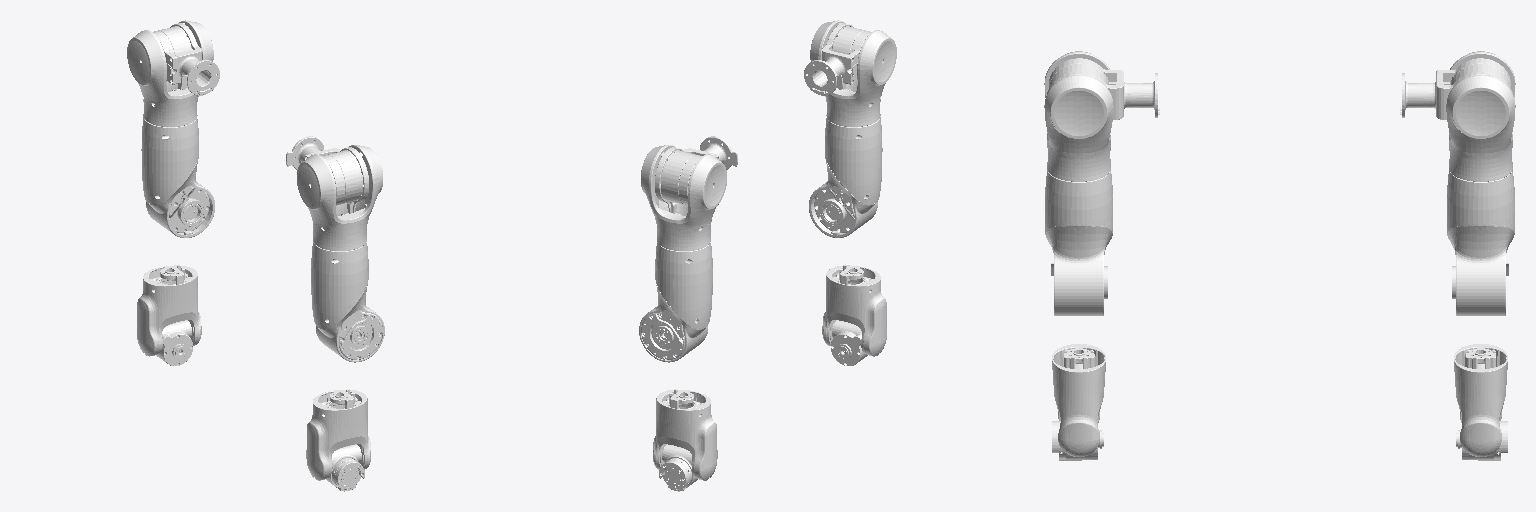
robot.urdf — biped_v3_arm:
<?xml version="1.0" ?>
<!-- =================================================================================== -->
<!-- |    This document was autogenerated by xacro from /home/fandes/workspace/kuavo-ros-control/src/humanoid-control/humanoid_interface_drake/models/biped_gen4.0/urdf/biped_v3_arm.xacro | -->
<!-- |    EDITING THIS FILE BY HAND IS NOT RECOMMENDED                                 | -->
<!-- =================================================================================== -->
<robot name="biped_v3_arm" xmlns:drake="https://drake.mit.edu">
  <link name="torso">
    <inertial>
      <origin xyz="-0.00505 0.0014 0.18077" rpy="0 0 0" />
      <mass value="33.6709" />
      <inertia ixx="0.28214" ixy="3e-05" ixz="0.01114" iyy="0.20534" iyz="0.00044" izz="0.13735" />
    </inertial>
    <visual>
      <origin rpy="0 0 0" xyz="0 0 0"/>
      <geometry>
        <mesh filename="../../meshes/base_link.STL"/>
      </geometry>
      <material name="">
        <color rgba="0.43137 0.45098 0.43137 1"/>
      </material>
    </visual>
    <!-- <collision>
      <origin xyz="0 0 0" rpy="0 0 0" />
      <geometry>
        <mesh filename="../../meshes/base_link.STL" />
      </geometry>
    </collision> -->
  </link>
  <!-- =========================================================== Arms ================================================================= -->
  
  <link name="zarm_l1_link">
    <inertial>
      <origin xyz="-0.00083 -0.02218 0.00035" rpy="0 0 0" />
      <mass value="0.962" />
      <inertia ixx="0.00225" ixy="-3e-05" ixz="0.0" iyy="0.00099" iyz="-2e-05" izz="0.00227" />
    </inertial>
    <visual>
      <origin xyz="0 0 0" rpy="0 0 0" />
      <geometry>
        <mesh filename="package://biped_s43/meshes/l_arm_pitch.STL" />
      </geometry>
      <material name="">
        <color rgba="1 1 1 1" />
      </material>
    </visual>
  </link>
  <joint name="zarm_l1_joint" type="revolute">
    <origin xyz="-0.0175 0.28469999999999995 0.3245" rpy="0 0 0" />
    <parent link="torso" />
    <child link="zarm_l1_link" />
    <axis xyz="0 1 0" />
    <limit lower="-3.14159265358979" upper="1.5707963267949" effort="100.0" velocity="41.3433333333333" />
  </joint>
  <transmission type="SimpleTransmission">
    <joint name="zarm_l1_joint" />
    <actuator name="zarm_l1_joint_motor" />
  </transmission>
  <link name="zarm_l2_link">
    <inertial>
      <origin xyz="-0.00791 0.0 -0.04655" rpy="0 0 0" />
      <mass value="0.57" />
      <inertia ixx="0.00163" ixy="0.0" ixz="5e-05" iyy="0.00211" iyz="0.0" izz="0.00122" />
    </inertial>
    <visual>
      <origin xyz="0 0 0" rpy="0 0 0" />
      <geometry>
        <mesh filename="package://biped_s43/meshes/l_arm_roll.STL" />
      </geometry>
      <material name="">
        <color rgba="1 1 1 1" />
      </material>
    </visual>
  </link>
  <joint name="zarm_l2_joint" type="revolute">
    <origin xyz="0 0 0" rpy="0 0 0" />
    <parent link="zarm_l1_link" />
    <child link="zarm_l2_link" />
    <axis xyz="1 0 0" />
    <limit lower="-0.349065850398866" upper="2.0943951023932" effort="50.0" velocity="19.154" />
  </joint>
  <transmission type="SimpleTransmission">
    <joint name="zarm_l2_joint" />
    <actuator name="zarm_l2_joint_motor" />
  </transmission>
  <link name="zarm_l3_link">
    <inertial>
      <origin xyz="0.00628 0.00107 -0.20878" rpy="0 0 0" />
      <mass value="1.65" />
      <inertia ixx="0.00815" ixy="-4e-05" ixz="0.00085" iyy="0.00828" iyz="0.00014" izz="0.00206" />
    </inertial>
    <visual>
      <origin xyz="0 0 0" rpy="0 0 0" />
      <geometry>
        <mesh filename="package://biped_s43/meshes/l_arm_yaw.STL" />
      </geometry>
      <material name="">
        <color rgba="1 1 1 1" />
      </material>
    </visual>
  </link>
  <joint name="zarm_l3_joint" type="revolute">
    <origin xyz="0 0 0" rpy="0 0 0" />
    <parent link="zarm_l2_link" />
    <child link="zarm_l3_link" />
    <axis xyz="0 0 1" />
    <limit lower="-1.5707963267949" upper="1.5707963267949" effort="39.0" velocity="18.84" />
  </joint>
  <transmission type="SimpleTransmission">
    <joint name="zarm_l3_joint" />
    <actuator name="zarm_l3_joint_motor" />
  </transmission>
  <link name="zarm_l4_link">
    <inertial>
      <origin xyz="-0.01611 0.00143 -0.04857" rpy="0 0 0" />
      <mass value="0.429" />
      <inertia ixx="0.00135" ixy="0.0" ixz="-0.0001" iyy="0.00114" iyz="0.0" izz="0.00083" />
    </inertial>
    <visual>
      <origin xyz="0 0 0" rpy="0 0 0" />
      <geometry>
        <mesh filename="package://biped_s43/meshes/l_forearm.STL" />
      </geometry>
      <material name="">
        <color rgba="1 1 1 1" />
      </material>
    </visual>
  </link>
  <joint name="zarm_l4_joint" type="revolute">
    <origin xyz="0.0200000000000006 0 -0.283699999999996" rpy="0 0 0" />
    <parent link="zarm_l3_link" />
    <child link="zarm_l4_link" />
    <axis xyz="0 1 0" />
    <limit lower="-2.61799387799149" upper="0.0" effort="50.0" velocity="18.84" />
  </joint>
  <transmission type="SimpleTransmission">
    <joint name="zarm_l4_joint" />
    <actuator name="zarm_l4_joint_motor" />
  </transmission>
  <link name="zarm_l5_link">
    <inertial>
      <origin xyz="-0.00207 0.00018 -0.05079" rpy="0 0 0" />
      <mass value="0.61" />
      <inertia ixx="0.00107" ixy="0.0" ixz="-4e-05" iyy="0.00146" iyz="0.0" izz="0.00083" />
    </inertial>
    <visual>
      <origin xyz="0 0 0" rpy="0 0 0" />
      <geometry>
        <mesh filename="package://biped_s43/meshes/l_hand_yaw.STL" />
      </geometry>
      <material name="">
        <color rgba="1 1 1 1" />
      </material>
    </visual>
  </link>
  <joint name="zarm_l5_joint" type="revolute">
    <origin xyz="-0.0200000000000025 0 -0.127037274261591" rpy="0 0 0" />
    <parent link="zarm_l4_link" />
    <child link="zarm_l5_link" />
    <axis xyz="0 0 1" />
    <limit lower="-1.5707963267949" upper="1.5707963267949" effort="12.0" velocity="21.666" />
  </joint>
  <transmission type="SimpleTransmission">
    <joint name="zarm_l5_joint" />
    <actuator name="zarm_l5_joint_motor" />
  </transmission>
  <link name="zarm_l6_link">
    <inertial>
      <origin xyz="-0.00111 0.00335 -0.01335" rpy="0 0 0" />
      <mass value="0.331" />
      <inertia ixx="0.00022" ixy="0.0" ixz="0.0" iyy="0.00027" iyz="0.0" izz="0.00028" />
    </inertial>
    <visual>
      <origin xyz="0 0 0" rpy="0 0 0" />
      <geometry>
        <mesh filename="package://biped_s43/meshes/l_hand_roll.STL" />
      </geometry>
      <material name="">
        <color rgba="1 1 1 1" />
      </material>
    </visual>
  </link>
  <joint name="zarm_l6_joint" type="revolute">
    <origin xyz="0.000199999999999079 0 -0.106462725738415" rpy="0 0 0" />
    <parent link="zarm_l5_link" />
    <child link="zarm_l6_link" />
    <axis xyz="1 0 0" />
    <limit lower="-1.30899693899575" upper="0.698131700797732" effort="12.0" velocity="21.666" />
  </joint>
  <transmission type="SimpleTransmission">
    <joint name="zarm_l6_joint" />
    <actuator name="zarm_l6_joint_motor" />
  </transmission>
  <link name="zarm_l7_link">
    <inertial>
      <origin xyz="0.00186 0.01014 -0.09044" rpy="0 0 0" />
      <mass value="0.64" />
      <inertia ixx="0.00071" ixy="1e-05" ixz="2e-05" iyy="0.0007" iyz="-4e-05" izz="0.00012" />
    </inertial>
    <visual>
      <origin xyz="0 0 0" rpy="0 0 0" />
      <geometry>
        <mesh filename="package://biped_s43/meshes/l_hand_pitch.STL" />
      </geometry>
      <material name="">
        <color rgba="1 1 1 1" />
      </material>
    </visual>
  </link>
  <joint name="zarm_l7_joint" type="revolute">
    <origin xyz="0 0 -0.0210004653879916" rpy="0 0 0" />
    <parent link="zarm_l6_link" />
    <child link="zarm_l7_link" />
    <axis xyz="0 1 0" />
    <limit lower="-0.698131700797732" upper="0.698131700797732" effort="12.0" velocity="21.666" />
  </joint>
  <transmission type="SimpleTransmission">
    <joint name="zarm_l7_joint" />
    <actuator name="zarm_l7_joint_motor" />
  </transmission>
  <!-- right arm -->
  <link name="zarm_r1_link">
    <inertial>
      <origin xyz="-0.00083 0.02218 0.00035" rpy="0 0 0" />
      <mass value="0.962" />
      <inertia ixx="0.00225" ixy="3e-05" ixz="0.0" iyy="0.00099" iyz="2e-05" izz="0.00227" />
    </inertial>
    <visual>
      <origin xyz="0 0 0" rpy="0 0 0" />
      <geometry>
        <mesh filename="package://biped_s43/meshes/r_arm_pitch.STL" />
      </geometry>
      <material name="">
        <color rgba="1 1 1 1" />
      </material>
    </visual>
  </link>
  <joint name="zarm_r1_joint" type="revolute">
    <origin xyz="-0.0175 -0.28469999999999995 0.3245" rpy="0 0 0" />
    <parent link="torso" />
    <child link="zarm_r1_link" />
    <axis xyz="0 1 0" />
    <limit lower="-3.14159265358979" upper="1.5707963267949" effort="100.0" velocity="41.3433333333333" />
  </joint>
  <transmission type="SimpleTransmission">
    <joint name="zarm_r1_joint" />
    <actuator name="zarm_r1_joint_motor" />
  </transmission>
  <link name="zarm_r2_link">
    <inertial>
      <origin xyz="-0.00791 0.0 -0.04655" rpy="0 0 0" />
      <mass value="0.57" />
      <inertia ixx="0.00163" ixy="0.0" ixz="5e-05" iyy="0.00211" iyz="0.0" izz="0.00122" />
    </inertial>
    <visual>
      <origin xyz="0 0 0" rpy="0 0 0" />
      <geometry>
        <mesh filename="package://biped_s43/meshes/r_arm_roll.STL" />
      </geometry>
      <material name="">
        <color rgba="1 1 1 1" />
      </material>
    </visual>
  </link>
  <joint name="zarm_r2_joint" type="revolute">
    <origin xyz="0 0 0" rpy="0 0 0" />
    <parent link="zarm_r1_link" />
    <child link="zarm_r2_link" />
    <axis xyz="1 0 0" />
    <limit lower="-2.0943951023932" upper="0.349065850398866" effort="50.0" velocity="19.154" />
  </joint>
  <transmission type="SimpleTransmission">
    <joint name="zarm_r2_joint" />
    <actuator name="zarm_r2_joint_motor" />
  </transmission>
  <link name="zarm_r3_link">
    <inertial>
      <origin xyz="0.00628 -0.00107 -0.20878" rpy="0 0 0" />
      <mass value="1.65" />
      <inertia ixx="0.00815" ixy="4e-05" ixz="0.00085" iyy="0.00828" iyz="-0.00014" izz="0.00206" />
    </inertial>
    <visual>
      <origin xyz="0 0 0" rpy="0 0 0" />
      <geometry>
        <mesh filename="package://biped_s43/meshes/r_arm_yaw.STL" />
      </geometry>
      <material name="">
        <color rgba="1 1 1 1" />
      </material>
    </visual>
  </link>
  <joint name="zarm_r3_joint" type="revolute">
    <origin xyz="0 0 0" rpy="0 0 0" />
    <parent link="zarm_r2_link" />
    <child link="zarm_r3_link" />
    <axis xyz="0 0 1" />
    <limit lower="-1.5707963267949" upper="1.5707963267949" effort="39.0" velocity="18.84" />
  </joint>
  <transmission type="SimpleTransmission">
    <joint name="zarm_r3_joint" />
    <actuator name="zarm_r3_joint_motor" />
  </transmission>
  <link name="zarm_r4_link">
    <inertial>
      <origin xyz="-0.01611 -0.00143 -0.04857" rpy="0 0 0" />
      <mass value="0.429" />
      <inertia ixx="0.00135" ixy="0.0" ixz="-0.0001" iyy="0.00114" iyz="0.0" izz="0.00083" />
    </inertial>
    <visual>
      <origin xyz="0 0 0" rpy="0 0 0" />
      <geometry>
        <mesh filename="package://biped_s43/meshes/r_forearm.STL" />
      </geometry>
      <material name="">
        <color rgba="1 1 1 1" />
      </material>
    </visual>
  </link>
  <joint name="zarm_r4_joint" type="revolute">
    <origin xyz="0.0200000000000024 0 -0.2837" rpy="0 0 0" />
    <parent link="zarm_r3_link" />
    <child link="zarm_r4_link" />
    <axis xyz="0 1 0" />
    <limit lower="-2.61799387799149" upper="0.0" effort="50.0" velocity="18.84" />
  </joint>
  <transmission type="SimpleTransmission">
    <joint name="zarm_r4_joint" />
    <actuator name="zarm_r4_joint_motor" />
  </transmission>
  <link name="zarm_r5_link">
    <inertial>
      <origin xyz="-0.00207 -0.00018 -0.05079" rpy="0 0 0" />
      <mass value="0.61" />
      <inertia ixx="0.00107" ixy="0.0" ixz="-4e-05" iyy="0.00146" iyz="0.0" izz="0.00083" />
    </inertial>
    <visual>
      <origin xyz="0 0 0" rpy="0 0 0" />
      <geometry>
        <mesh filename="package://biped_s43/meshes/r_hand_yaw.STL" />
      </geometry>
      <material name="">
        <color rgba="1 1 1 1" />
      </material>
    </visual>
  </link>
  <joint name="zarm_r5_joint" type="revolute">
    <origin xyz="-0.0200000000000001 0 -0.127037274261587" rpy="0 0 0" />
    <parent link="zarm_r4_link" />
    <child link="zarm_r5_link" />
    <axis xyz="0 0 1" />
    <limit lower="-1.5707963267949" upper="1.5707963267949" effort="12.0" velocity="21.666" />
  </joint>
  <transmission type="SimpleTransmission">
    <joint name="zarm_r5_joint" />
    <actuator name="zarm_r5_joint_motor" />
  </transmission>
  <link name="zarm_r6_link">
    <inertial>
      <origin xyz="-0.00111 -0.00335 -0.01335" rpy="0 0 0" />
      <mass value="0.331" />
      <inertia ixx="0.00022" ixy="0.0" ixz="0.0" iyy="0.00027" iyz="0.0" izz="0.00028" />
    </inertial>
    <visual>
      <origin xyz="0 0 0" rpy="0 0 0" />
      <geometry>
        <mesh filename="package://biped_s43/meshes/r_hand_roll.STL" />
      </geometry>
      <material name="">
        <color rgba="1 1 1 1" />
      </material>
    </visual>
  </link>
  <joint name="zarm_r6_joint" type="revolute">
    <origin xyz="0 0 -0.106462725738415" rpy="0 0 0" />
    <parent link="zarm_r5_link" />
    <child link="zarm_r6_link" />
    <axis xyz="1 0 0" />
    <limit lower="-0.698131700797732" upper="1.30899693899575" effort="12.0" velocity="21.666" />
  </joint>
  <transmission type="SimpleTransmission">
    <joint name="zarm_r6_joint" />
    <actuator name="zarm_r6_joint_motor" />
  </transmission>
  <link name="zarm_r7_link">
    <inertial>
      <origin xyz="0.00186 -0.01014 -0.09044" rpy="0 0 0" />
      <mass value="0.64" />
      <inertia ixx="0.00069" ixy="-1e-05" ixz="2e-05" iyy="0.00068" iyz="5e-05" izz="0.00012" />
    </inertial>
    <visual>
      <origin xyz="0 0 0" rpy="0 0 0" />
      <geometry>
        <mesh filename="package://biped_s43/meshes/r_hand_pitch.STL" />
      </geometry>
      <material name="">
        <color rgba="1 1 1 1" />
      </material>
    </visual>
  </link>
  <joint name="zarm_r7_joint" type="revolute">
    <origin xyz="0 0 -0.0209999999999999" rpy="0 0 0" />
    <parent link="zarm_r6_link" />
    <child link="zarm_r7_link" />
    <axis xyz="0 1 0" />
    <limit lower="-0.698131700797732" upper="0.698131700797732" effort="12.0" velocity="21.666" />
  </joint>
  <transmission type="SimpleTransmission">
    <joint name="zarm_r7_joint" />
    <actuator name="zarm_r7_joint_motor" />
  </transmission>
  <!-- end frame -->
  <!-- <frame link="l_hand_pitch" name="l_hand_sole" xyz="0 0 -0.1" /> -->
  <!-- end frame -->
  <!-- <frame link="r_hand_pitch" name="r_hand_sole" xyz="0 0 -0.1" /> -->
</robot>

--- Render facts (derived) ---
3 views of the same robot in one strip: view 1: azimuth 30°, elevation 25°; view 2: azimuth 150°, elevation 25°; view 3: azimuth 270°, elevation 25° (orthographic).
Robot: biped_v3_arm — 15 links, 14 joints (14 revolute); root link torso; default pose: all joints at 0.
Visible links, largest first — view 1: zarm_r3_link, zarm_l3_link, zarm_r2_link, zarm_l2_link, zarm_l5_link, zarm_r5_link, zarm_l1_link, zarm_r1_link, zarm_r6_link, zarm_l6_link; view 2: zarm_l3_link, zarm_r3_link, zarm_l2_link, zarm_r2_link, zarm_r5_link, zarm_l5_link, zarm_r1_link, zarm_l1_link, zarm_l6_link, zarm_r6_link; view 3: zarm_l3_link, zarm_r3_link, zarm_l2_link, zarm_r2_link, zarm_l5_link, zarm_r5_link, zarm_l1_link, zarm_r1_link, zarm_r6_link, zarm_l6_link.
Boxes of the visible links, box(x1,y1,x2,y2) form: zarm_r3_link: box(311, 242, 384, 362); zarm_l3_link: box(141, 116, 214, 237); zarm_r2_link: box(297, 145, 382, 250); zarm_l2_link: box(127, 20, 213, 126); zarm_l5_link: box(137, 264, 201, 356); zarm_r5_link: box(306, 389, 370, 480); zarm_l1_link: box(153, 23, 219, 95); zarm_r1_link: box(286, 136, 368, 205); zarm_r6_link: box(326, 444, 364, 491); zarm_l6_link: box(156, 320, 192, 365); zarm_l3_link: box(639, 242, 712, 362); zarm_r3_link: box(809, 116, 882, 237); zarm_l2_link: box(641, 145, 726, 250); zarm_r2_link: box(810, 20, 896, 126); zarm_r5_link: box(822, 264, 886, 356); zarm_l5_link: box(653, 389, 717, 480); zarm_r1_link: box(804, 23, 870, 95); zarm_l1_link: box(655, 136, 737, 205); zarm_l6_link: box(659, 444, 697, 491); zarm_r6_link: box(831, 320, 867, 365); zarm_l3_link: box(1447, 171, 1514, 315); zarm_r3_link: box(1045, 171, 1112, 315); zarm_l2_link: box(1446, 51, 1515, 181); zarm_r2_link: box(1044, 51, 1113, 181); zarm_l5_link: box(1454, 344, 1507, 456); zarm_r5_link: box(1052, 344, 1105, 456); zarm_l1_link: box(1400, 58, 1512, 119); zarm_r1_link: box(1047, 58, 1159, 119); zarm_r6_link: box(1052, 421, 1103, 460); zarm_l6_link: box(1456, 421, 1507, 460).
Bounding box of the posed robot: 0.128 × 0.6674 × 0.6172 m (x, y, z).
10 mesh visuals loaded from 15 distinct referenced files (10 binary STL); not drawn: 5 (reference not matched to a file when rendering).
